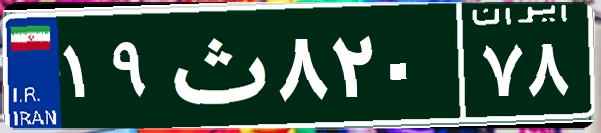0: (385, 28, 445, 110)
1: (57, 26, 110, 107)
2: (330, 28, 385, 110)
7: (475, 38, 525, 113)
8: (273, 28, 330, 110), (525, 38, 570, 115)
9: (110, 28, 158, 105)
ث: (158, 15, 273, 115)
